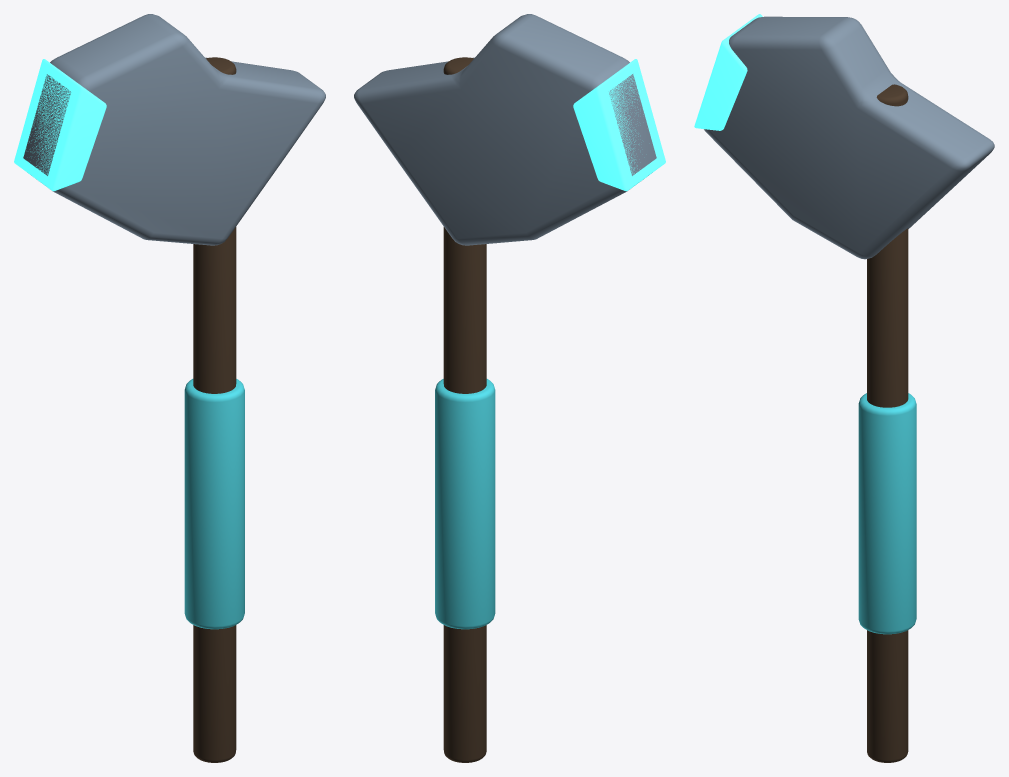
File: axe_v6.glb
3 renders of one model, left to right at view 1: azimuth 30°, elevation 25°; view 2: azimuth 150°, elevation 25°; view 3: azimuth 330°, elevation 25°, orthographic. The views are drawn at different scales.
Parts seen in each view (by area): view 1: TOMAHAWK_HEAD_PRIMARY, TOMAHAWK_WRAP_ACCENT, AXE_SHAFT_SECONDARY, TOMAHAWK_EDGE_EMISSIVE; view 2: TOMAHAWK_HEAD_PRIMARY, TOMAHAWK_WRAP_ACCENT, AXE_SHAFT_SECONDARY, TOMAHAWK_EDGE_EMISSIVE; view 3: TOMAHAWK_HEAD_PRIMARY, TOMAHAWK_WRAP_ACCENT, AXE_SHAFT_SECONDARY, TOMAHAWK_EDGE_EMISSIVE.
Boxes of the visible parts, bbox=[...] form: TOMAHAWK_HEAD_PRIMARY: bbox=[23, 14, 325, 245]; TOMAHAWK_WRAP_ACCENT: bbox=[184, 379, 244, 629]; AXE_SHAFT_SECONDARY: bbox=[193, 57, 236, 762]; TOMAHAWK_EDGE_EMISSIVE: bbox=[14, 59, 106, 191]; TOMAHAWK_HEAD_PRIMARY: bbox=[354, 14, 656, 245]; TOMAHAWK_WRAP_ACCENT: bbox=[435, 379, 495, 629]; AXE_SHAFT_SECONDARY: bbox=[443, 57, 486, 762]; TOMAHAWK_EDGE_EMISSIVE: bbox=[573, 59, 665, 191]; TOMAHAWK_HEAD_PRIMARY: bbox=[704, 16, 994, 259]; TOMAHAWK_WRAP_ACCENT: bbox=[858, 393, 916, 634]; AXE_SHAFT_SECONDARY: bbox=[867, 84, 908, 762]; TOMAHAWK_EDGE_EMISSIVE: bbox=[694, 14, 762, 130].
Size of the model in its own units: 1.5 by 3.82 by 0.38.
